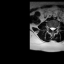CCS_normal: (51, 25, 53, 33)
LFS_normal: (55, 25, 57, 31)
LLS_normal: (53, 25, 55, 31)
RFS_normal: (48, 24, 49, 31)
RLS_normal: (49, 25, 51, 31)
